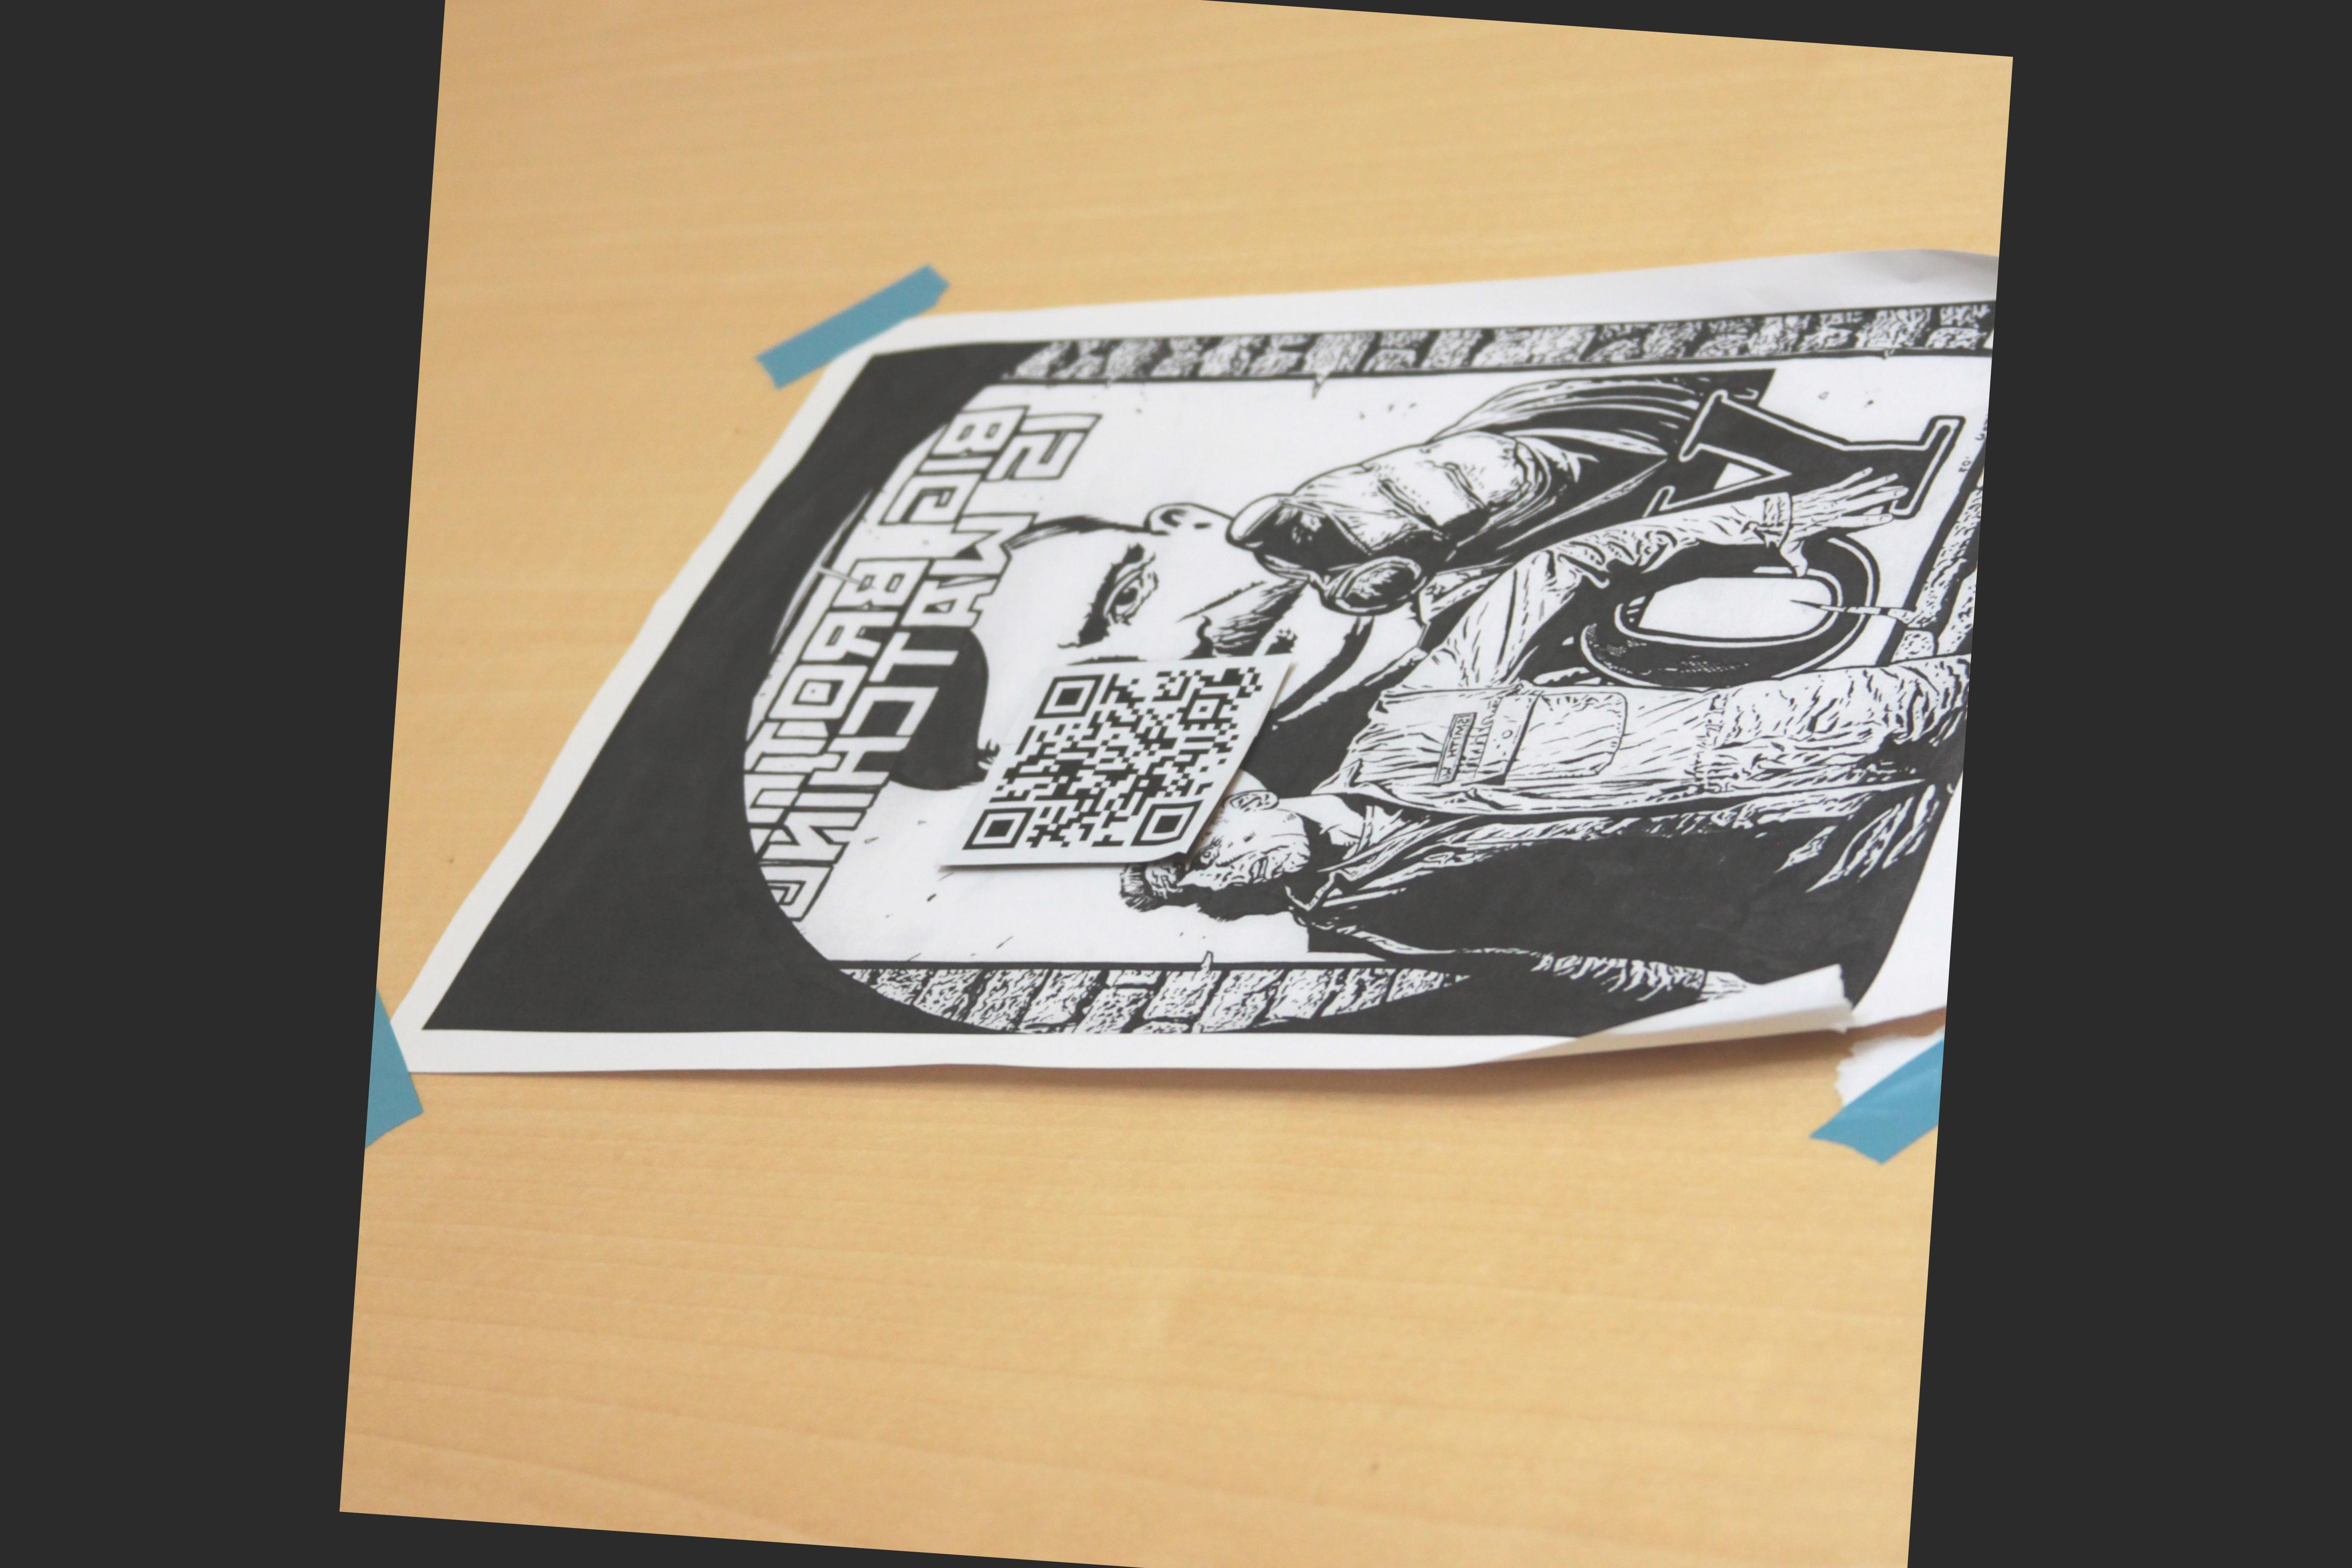QR: (943, 644, 1284, 870)
